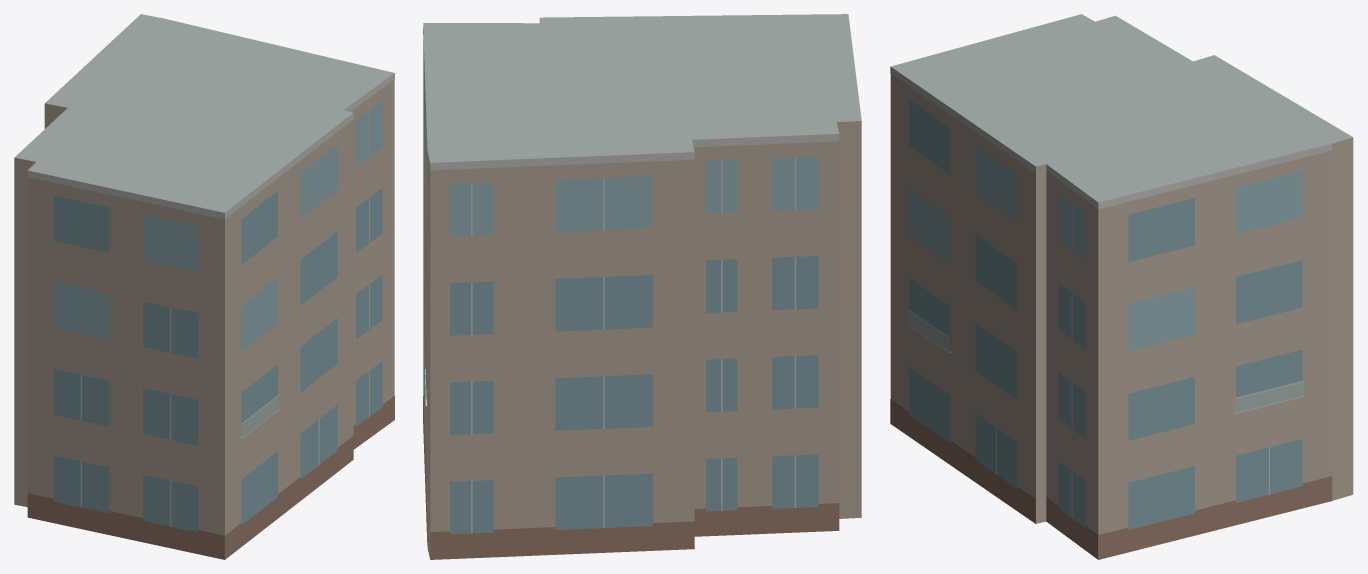
Rendered from survey-upis-32898753.glb.
3 renders of one model, left to right at view 1: azimuth 30°, elevation 25°; view 2: azimuth 150°, elevation 25°; view 3: azimuth 270°, elevation 25°, orthographic. The views are drawn at different scales.
Visible parts, largest first — view 1: survey-upis-32898753.tmp; view 2: survey-upis-32898753.tmp; view 3: survey-upis-32898753.tmp.
Part boxes in pixels (x1,y1,x2,y2): survey-upis-32898753.tmp: (14, 14, 394, 559); survey-upis-32898753.tmp: (423, 14, 861, 559); survey-upis-32898753.tmp: (890, 14, 1353, 559).
Size of the model in its own units: 14.49 by 12.8 by 15.04.
